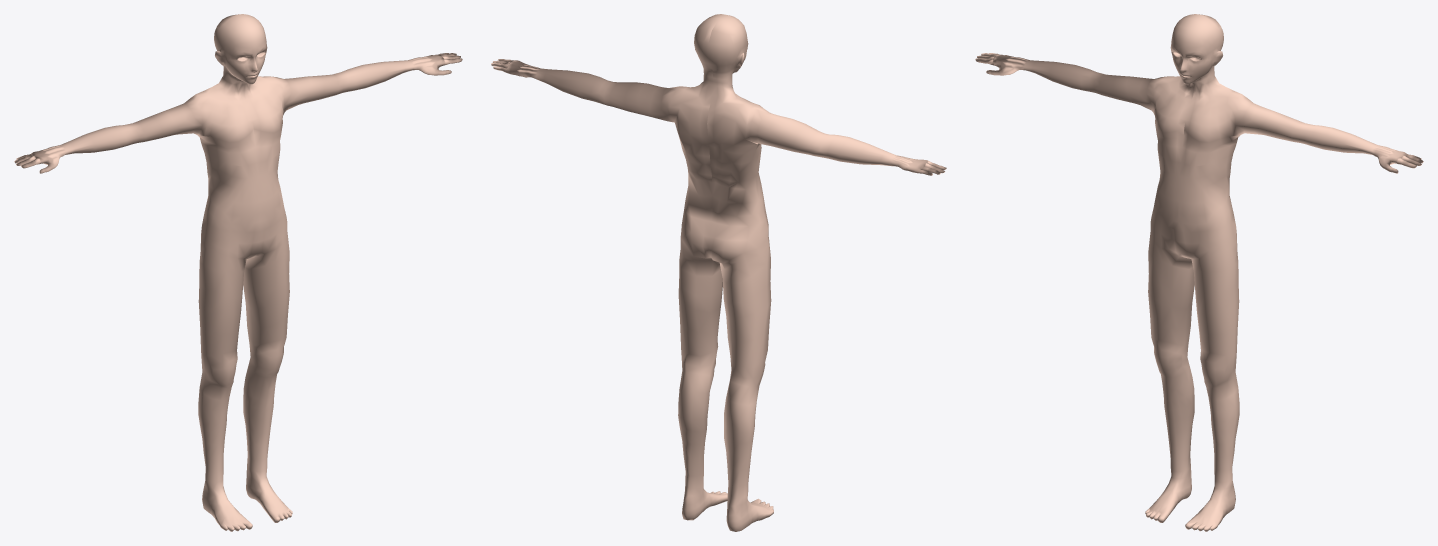
File: OriginalHumanBase.fbx
The picture shows the model from 3 angles, left to right: view 1: azimuth 30°, elevation 25°; view 2: azimuth 150°, elevation 25°; view 3: azimuth 330°, elevation 25°; orthographic projection.
Visible parts, largest first — view 1: Base_HumanMale2; view 2: Base_HumanMale2; view 3: Base_HumanMale2.
Part boxes in pixels (box(x1,y1,x2,y2)): Base_HumanMale2: box(14, 14, 462, 531); Base_HumanMale2: box(491, 14, 946, 531); Base_HumanMale2: box(975, 14, 1423, 531).
Size of the model in its own units: 5.66 by 6.01 by 0.8768.
